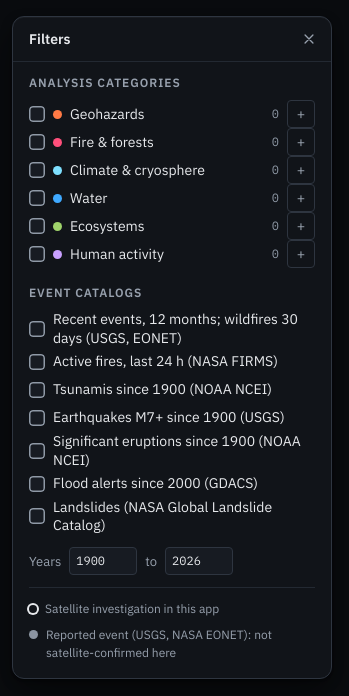
Test: Filters: year range inputs show the applied range › writes the clamped range back on blur when From is after To
The image size is (349, 696).
Replace the text in the number field named "From year" with "2020". click: [103, 561]
box: [69,547,137,575]
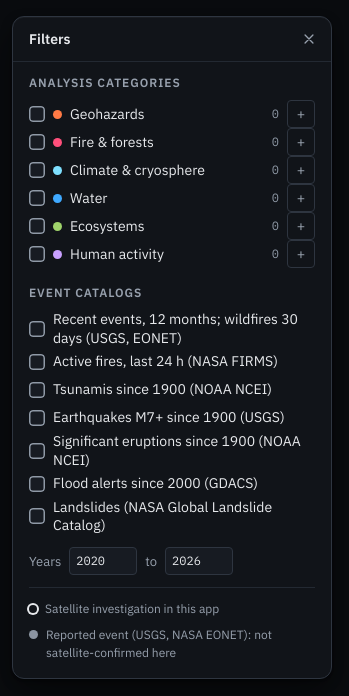
Replace the text in the number field named "To year" with "2010". click: [199, 561]
box: [165,547,233,575]
Wait 300 ms
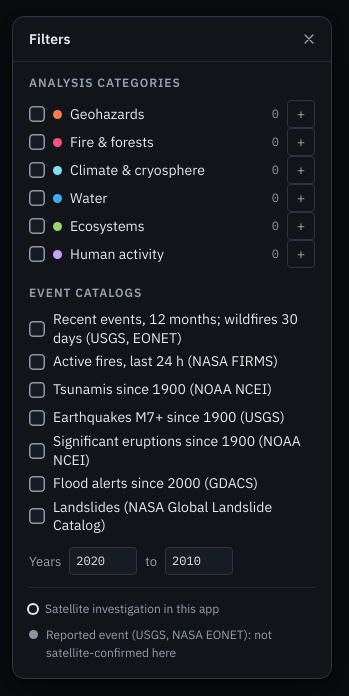
Leave the number field named "To year", box [165,547,233,575]
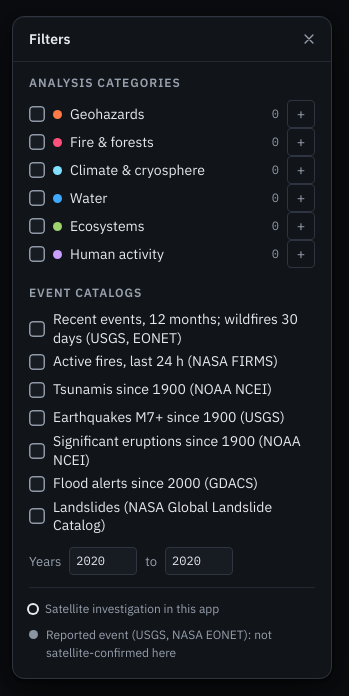
Result: the number field named "To year" holds "2020" at [165,547,233,575]
